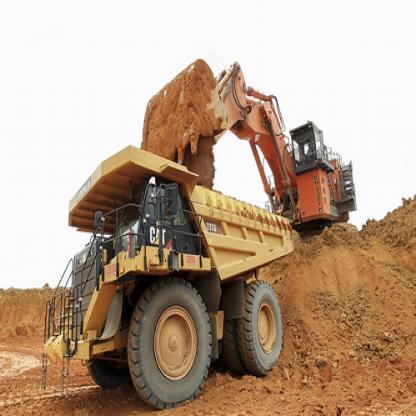dump_truck: (32, 142, 288, 405)
excavator: (132, 57, 361, 247)
